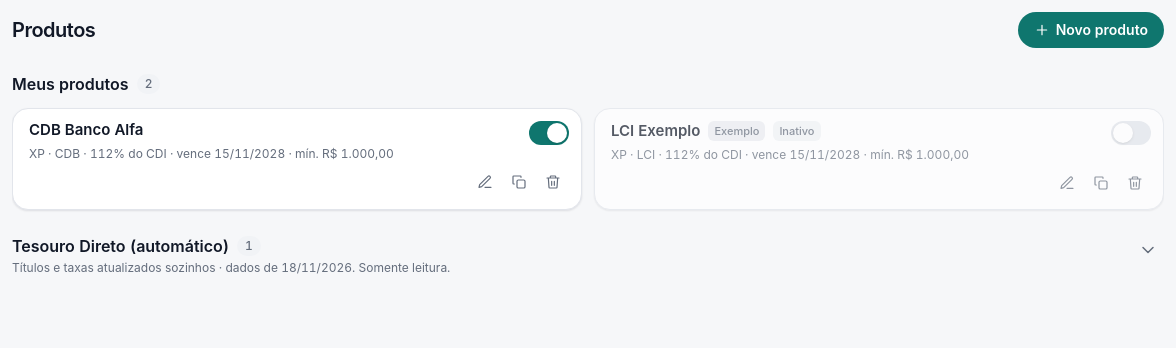
Test: lista produtos manuais com chip Exemplo e o Tesouro com data base
The image size is (1176, 348).
Expected: the text "CDB Banco Alfa" is shown, [29,121,143,140]
Expected: the text "Exemplo" is shown, [708,121,765,141]
Click the button named "Mostrar Tesouro Direto" at (1148, 253), box [1132,234,1164,272]
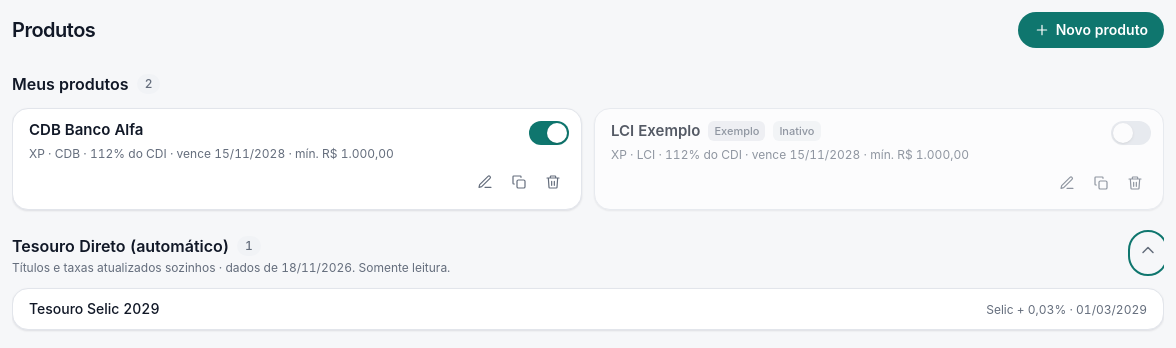
Expected: the text "dados de 18/11/2026" is shown, [216,260,352,275]
Now the text "Tesouro Selic 2029" is shown, box [29,299,160,319]
